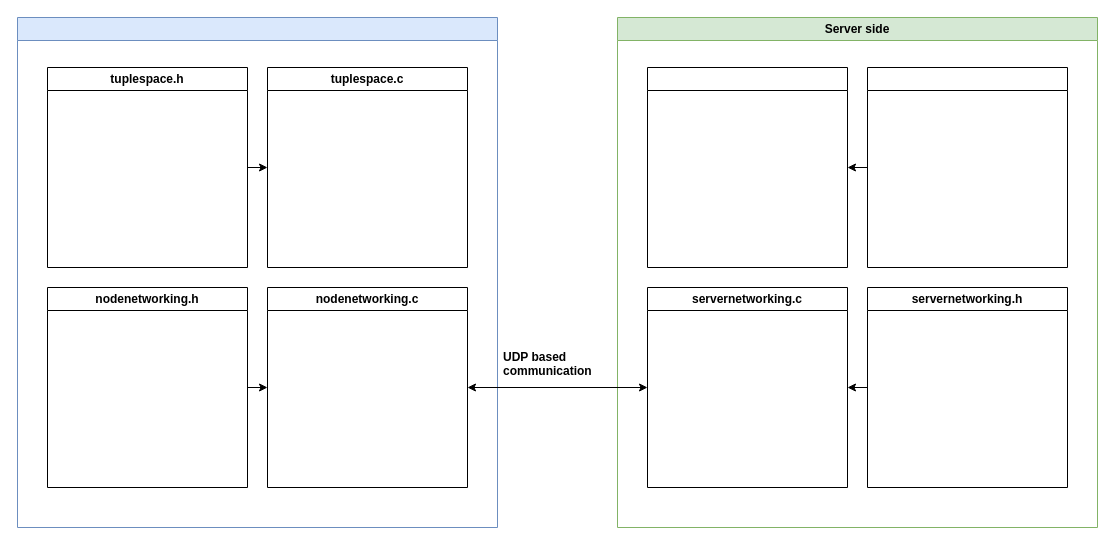
This 1115x545 diagram has some shape labels left out. The centre of each missing label's shape, as x and y in pixels:
"Node side" goes at [257,272].
"tuplespacestorage.c" goes at [747,167].
"tuplespacestorage.h" goes at [967,167].
